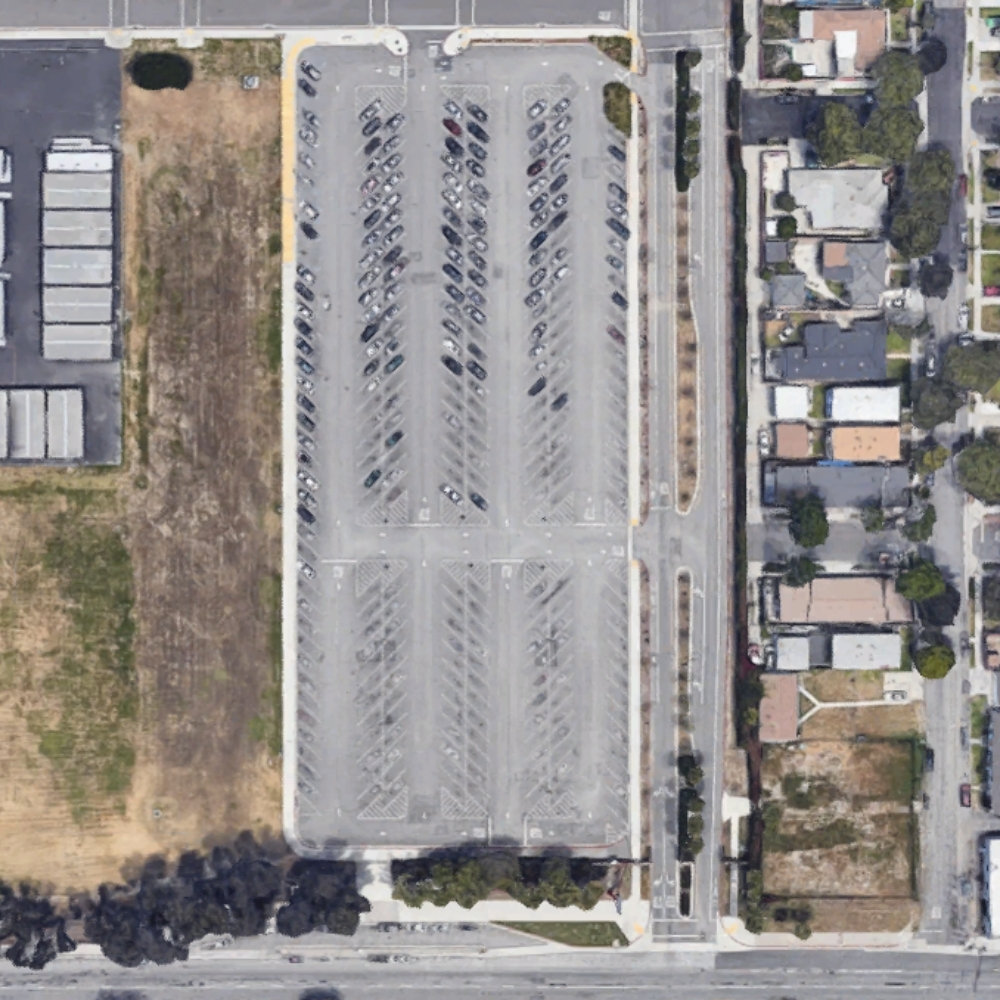parking: (295, 45, 630, 850)
